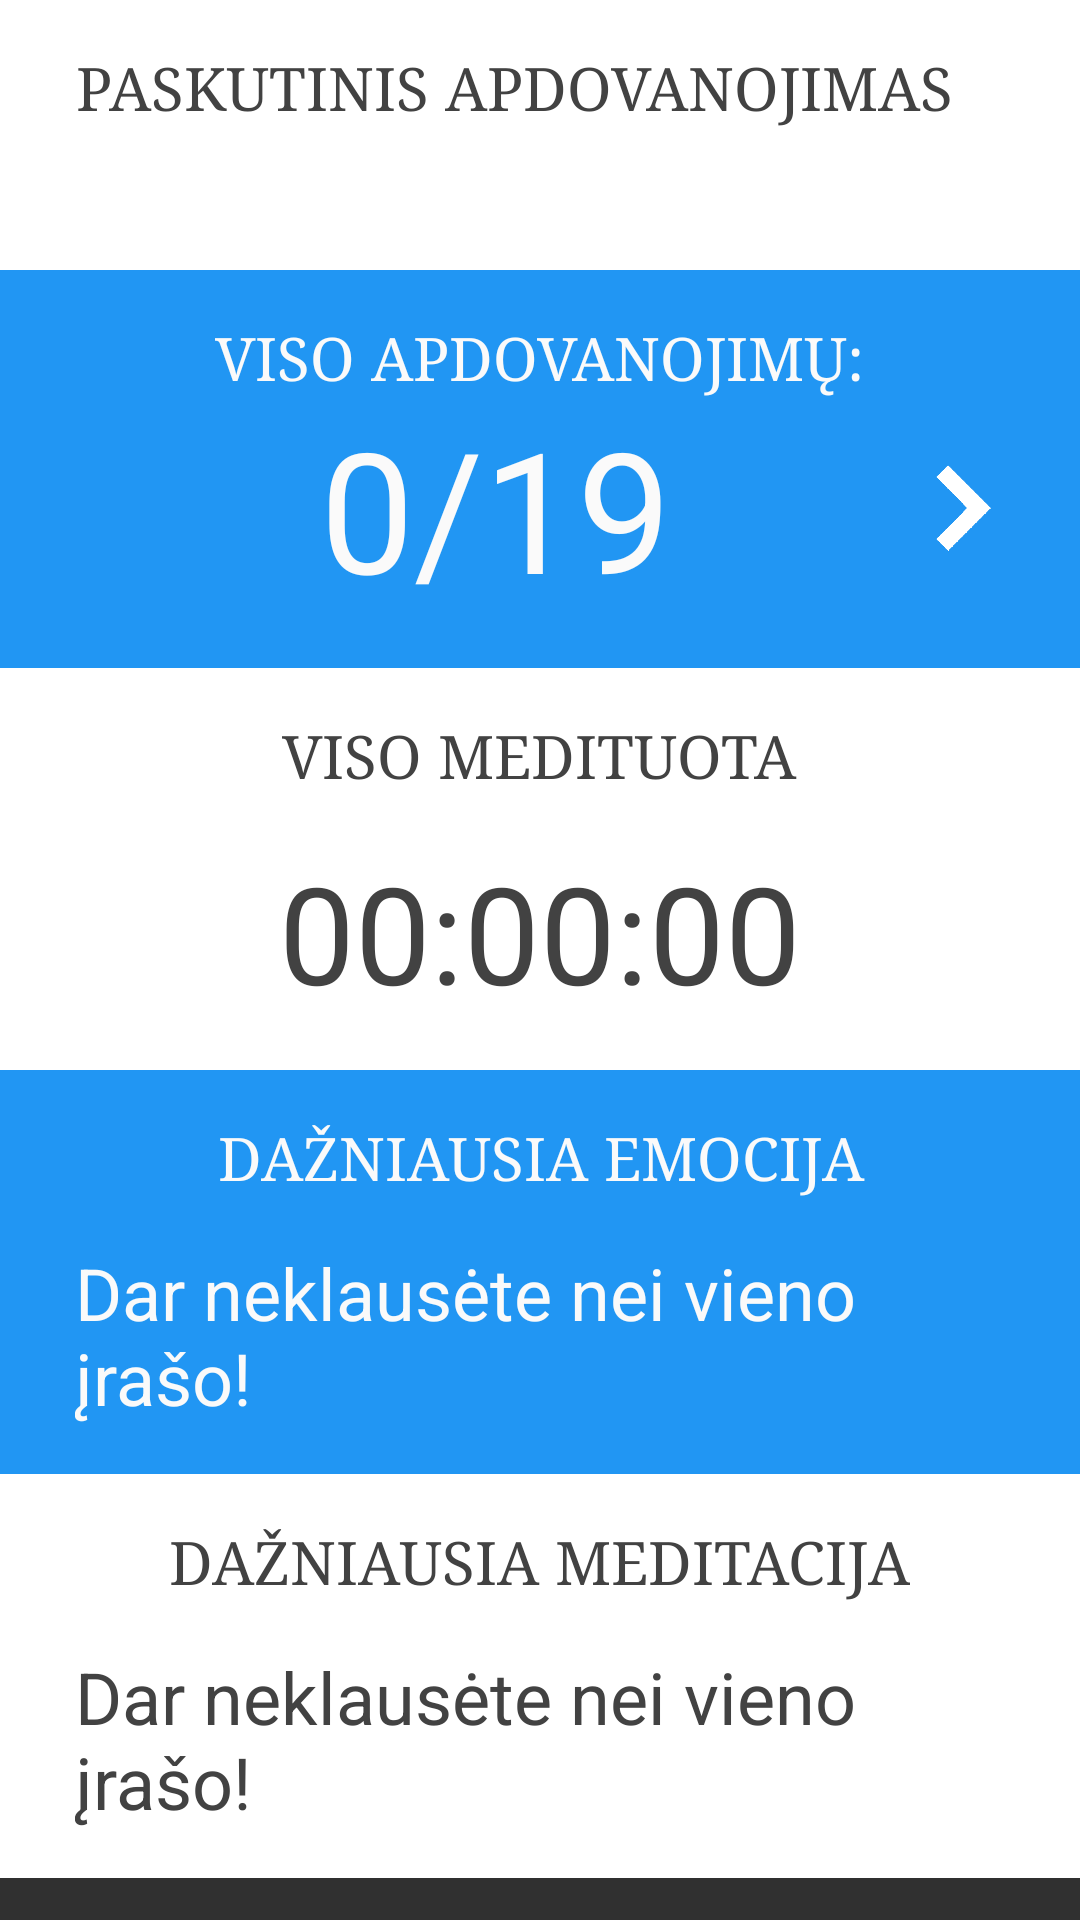

Icons on this 1080 × 1920 Android screen, each with the point to tap as [x,y]:
arrow: [963,508]
